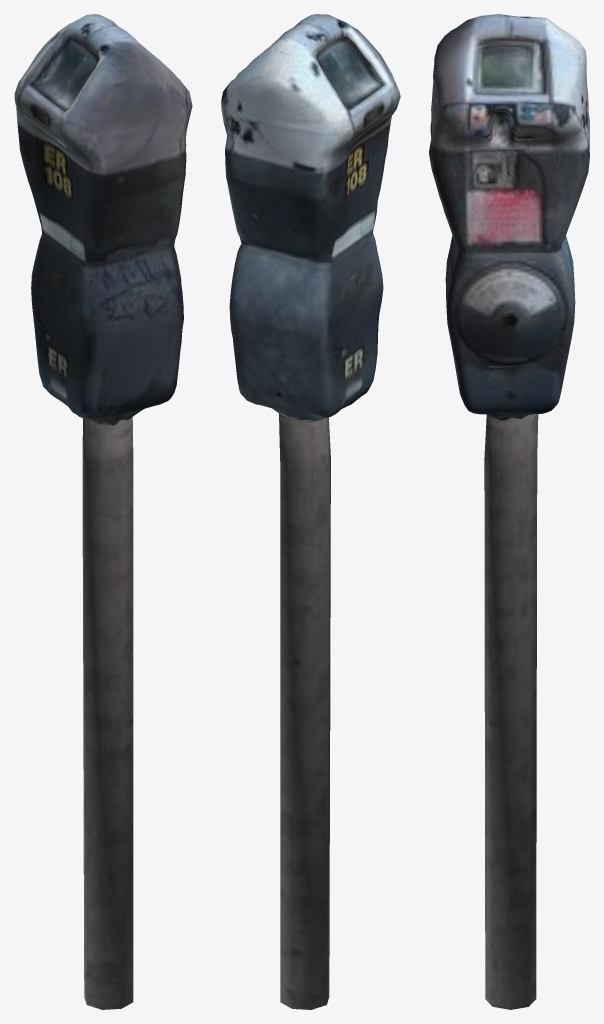
Rendered from parking_meter.glb.
3 renders of one model, left to right at view 1: azimuth 30°, elevation 25°; view 2: azimuth 150°, elevation 25°; view 3: azimuth 270°, elevation 25°, orthographic.
Visible parts, largest first — view 1: ParkingMeterSingle.002; view 2: ParkingMeterSingle.002; view 3: ParkingMeterSingle.002.
Boxes of the visible parts, x1,y1,x2,y2 form: ParkingMeterSingle.002: (14, 14, 192, 1009); ParkingMeterSingle.002: (221, 14, 400, 1009); ParkingMeterSingle.002: (429, 14, 589, 1009).
Bounding box in the file's own units: 0.2179 × 1.52 × 0.2256.
1 material, 1 textured.
